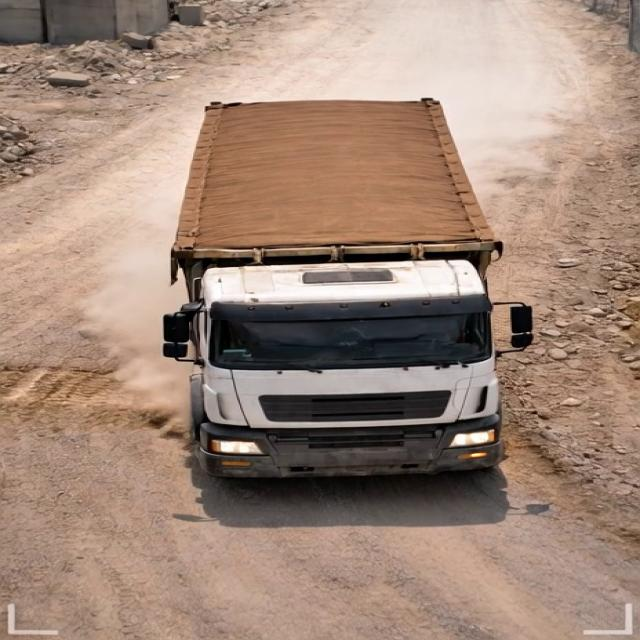Box: (154, 96, 515, 264)
Truck: (162, 74, 538, 504)
